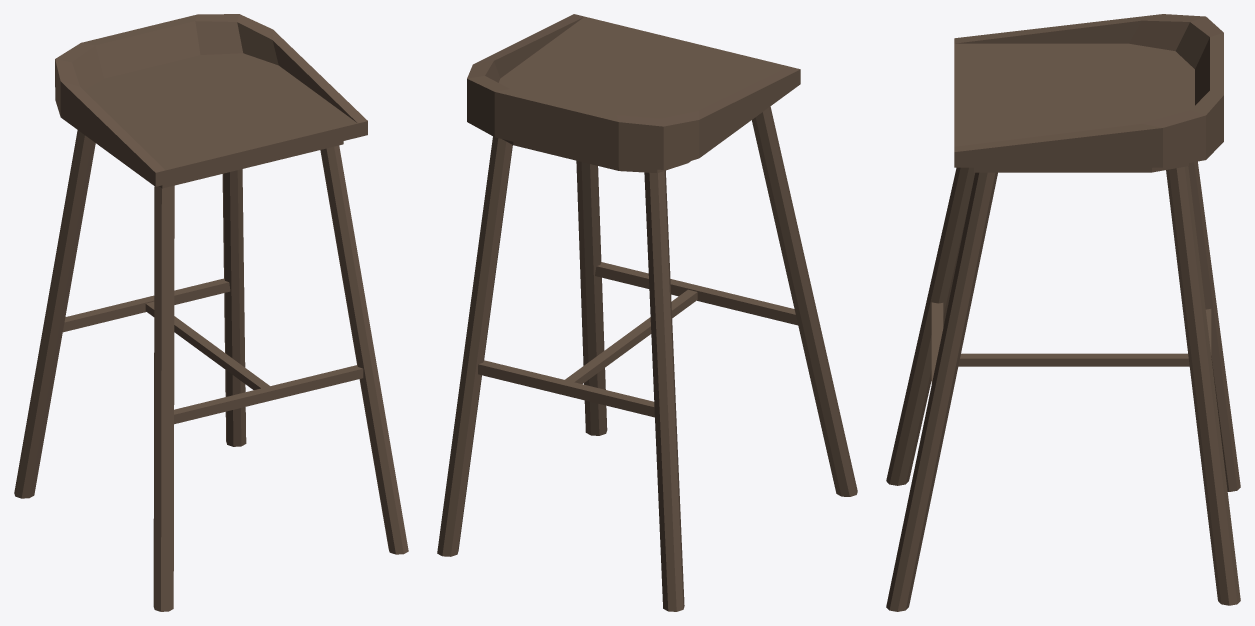
The model's file is Chair_3.fbx.
3 views of the same model, side by side, from view 1: azimuth 30°, elevation 25°; view 2: azimuth 150°, elevation 25°; view 3: azimuth 270°, elevation 25° (orthographic). The views are drawn at different scales.
Visible parts, largest first — view 1: Chair_3; view 2: Chair_3; view 3: Chair_3.
Part boxes in pixels (left/top/right/bottom): Chair_3: left=14, top=14, right=408, bottom=611; Chair_3: left=437, top=14, right=857, bottom=611; Chair_3: left=886, top=14, right=1240, bottom=611.
Size of the model in its own units: 54.93 by 60.68 by 91.31.
